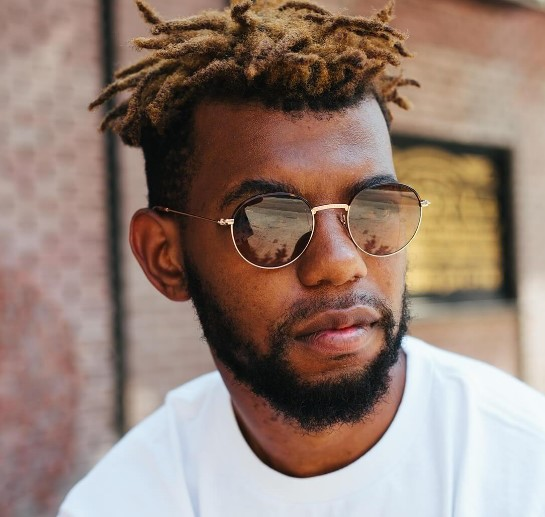face_no_mask: (154, 55, 421, 447)
